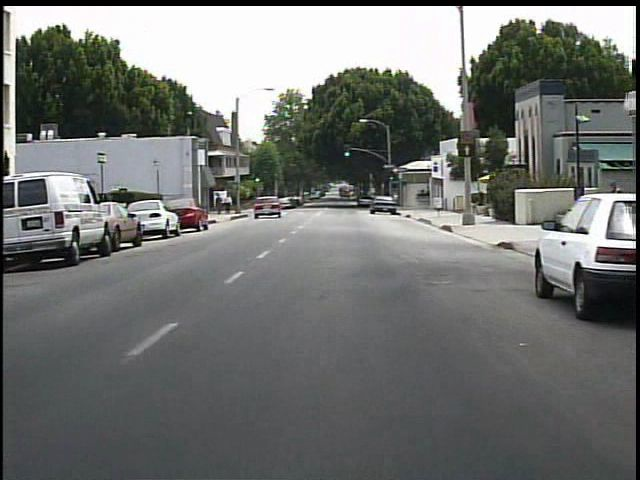person: (214, 194, 226, 217), (224, 194, 235, 217)
